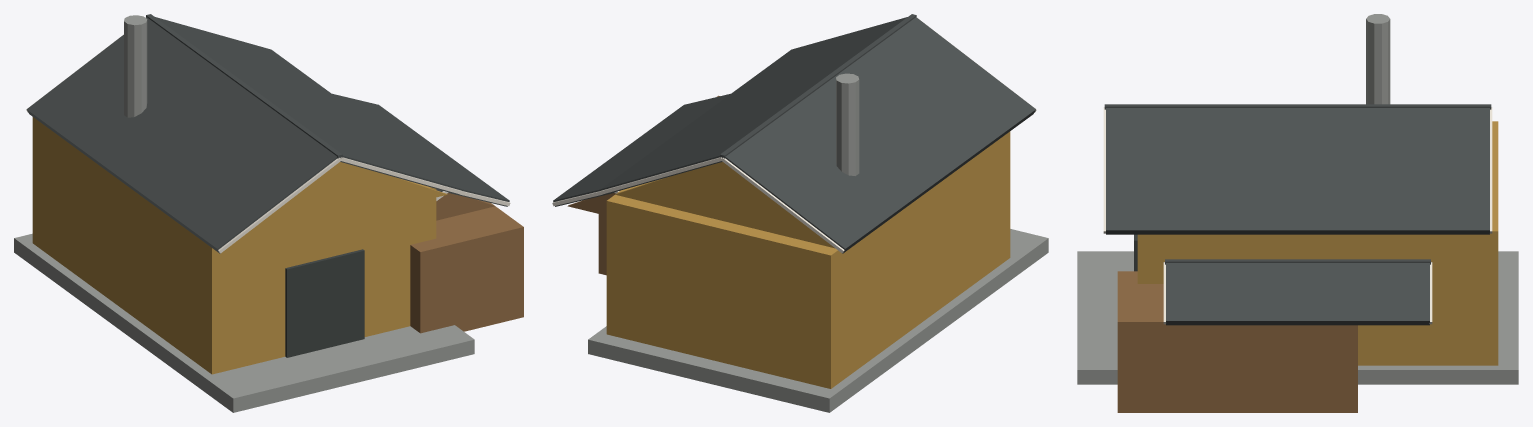
The model's file is norway-sawmill_lod0.glb.
3 views of the same model, side by side, from view 1: azimuth 30°, elevation 25°; view 2: azimuth 150°, elevation 25°; view 3: azimuth 270°, elevation 25° (orthographic).
Visible parts, largest first — view 1: RF_Sawmill_Hall, RF_Sawmill_RoofA, RF_Sawmill_Base, RF_Sawmill_Shed, RF_Sawmill_RoofB, RF_Sawmill_Door, RF_Sawmill_Gables, RF_SawmillShed_RoofB, RF_Sawmill_Chimney, RF_Sawmill_RidgeCap, RF_SawmillShed_Gables, RF_Sawmill_VergeLeftFront (+1 smaller); view 2: RF_Sawmill_Hall, RF_Sawmill_RoofA, RF_Sawmill_Base, RF_Sawmill_RoofB, RF_Sawmill_Gables, RF_SawmillShed_RoofB, RF_Sawmill_Chimney, RF_Sawmill_RidgeCap, RF_Sawmill_VergeLeftRear, RF_Sawmill_VergeRightRear, RF_Sawmill_Shed, RF_SawmillShed_Gables; view 3: RF_Sawmill_RoofB, RF_Sawmill_Shed, RF_Sawmill_Hall, RF_SawmillShed_RoofB, RF_Sawmill_Base, RF_Sawmill_Chimney, RF_Sawmill_RidgeCap, RF_SawmillShed_RidgeCap.
Part boxes in pixels (x1=…): RF_Sawmill_Hall: x1=32, y1=117, x2=436, y2=374; RF_Sawmill_RoofA: x1=26, y1=17, x2=337, y2=253; RF_Sawmill_Base: x1=14, y1=233, x2=474, y2=412; RF_Sawmill_Shed: x1=410, y1=201, x2=523, y2=333; RF_Sawmill_RoofB: x1=155, y1=17, x2=461, y2=195; RF_Sawmill_Door: x1=285, y1=249, x2=364, y2=357; RF_Sawmill_Gables: x1=228, y1=162, x2=447, y2=248; RF_SawmillShed_RoofB: x1=332, y1=93, x2=509, y2=206; RF_Sawmill_Chimney: x1=124, y1=15, x2=147, y2=117; RF_Sawmill_RidgeCap: x1=146, y1=14, x2=342, y2=158; RF_SawmillShed_Gables: x1=436, y1=193, x2=494, y2=220; RF_Sawmill_VergeLeftFront: x1=218, y1=157, x2=341, y2=253; RF_Sawmill_Hall: x1=606, y1=131, x2=1010, y2=388; RF_Sawmill_RoofA: x1=725, y1=17, x2=1035, y2=253; RF_Sawmill_Base: x1=588, y1=229, x2=1048, y2=412; RF_Sawmill_RoofB: x1=600, y1=17, x2=907, y2=195; RF_Sawmill_Gables: x1=615, y1=162, x2=834, y2=248; RF_SawmillShed_RoofB: x1=553, y1=93, x2=730, y2=206; RF_Sawmill_Chimney: x1=836, y1=73, x2=859, y2=175; RF_Sawmill_RidgeCap: x1=720, y1=14, x2=916, y2=158; RF_Sawmill_VergeLeftRear: x1=721, y1=157, x2=844, y2=253; RF_Sawmill_VergeRightRear: x1=600, y1=157, x2=721, y2=194; RF_Sawmill_Shed: x1=598, y1=95, x2=719, y2=275; RF_SawmillShed_Gables: x1=567, y1=193, x2=615, y2=215; RF_Sawmill_RoofB: x1=1106, y1=108, x2=1489, y2=234; RF_Sawmill_Shed: x1=1117, y1=271, x2=1357, y2=412; RF_Sawmill_Hall: x1=1137, y1=121, x2=1498, y2=365; RF_SawmillShed_RoofB: x1=1166, y1=263, x2=1429, y2=325; RF_Sawmill_Base: x1=1077, y1=251, x2=1518, y2=384; RF_Sawmill_Chimney: x1=1366, y1=14, x2=1390, y2=104; RF_Sawmill_RidgeCap: x1=1104, y1=104, x2=1491, y2=109; RF_SawmillShed_RidgeCap: x1=1165, y1=259, x2=1430, y2=264.
Bounding box in the file's own units: 18.69 × 15 × 22.
